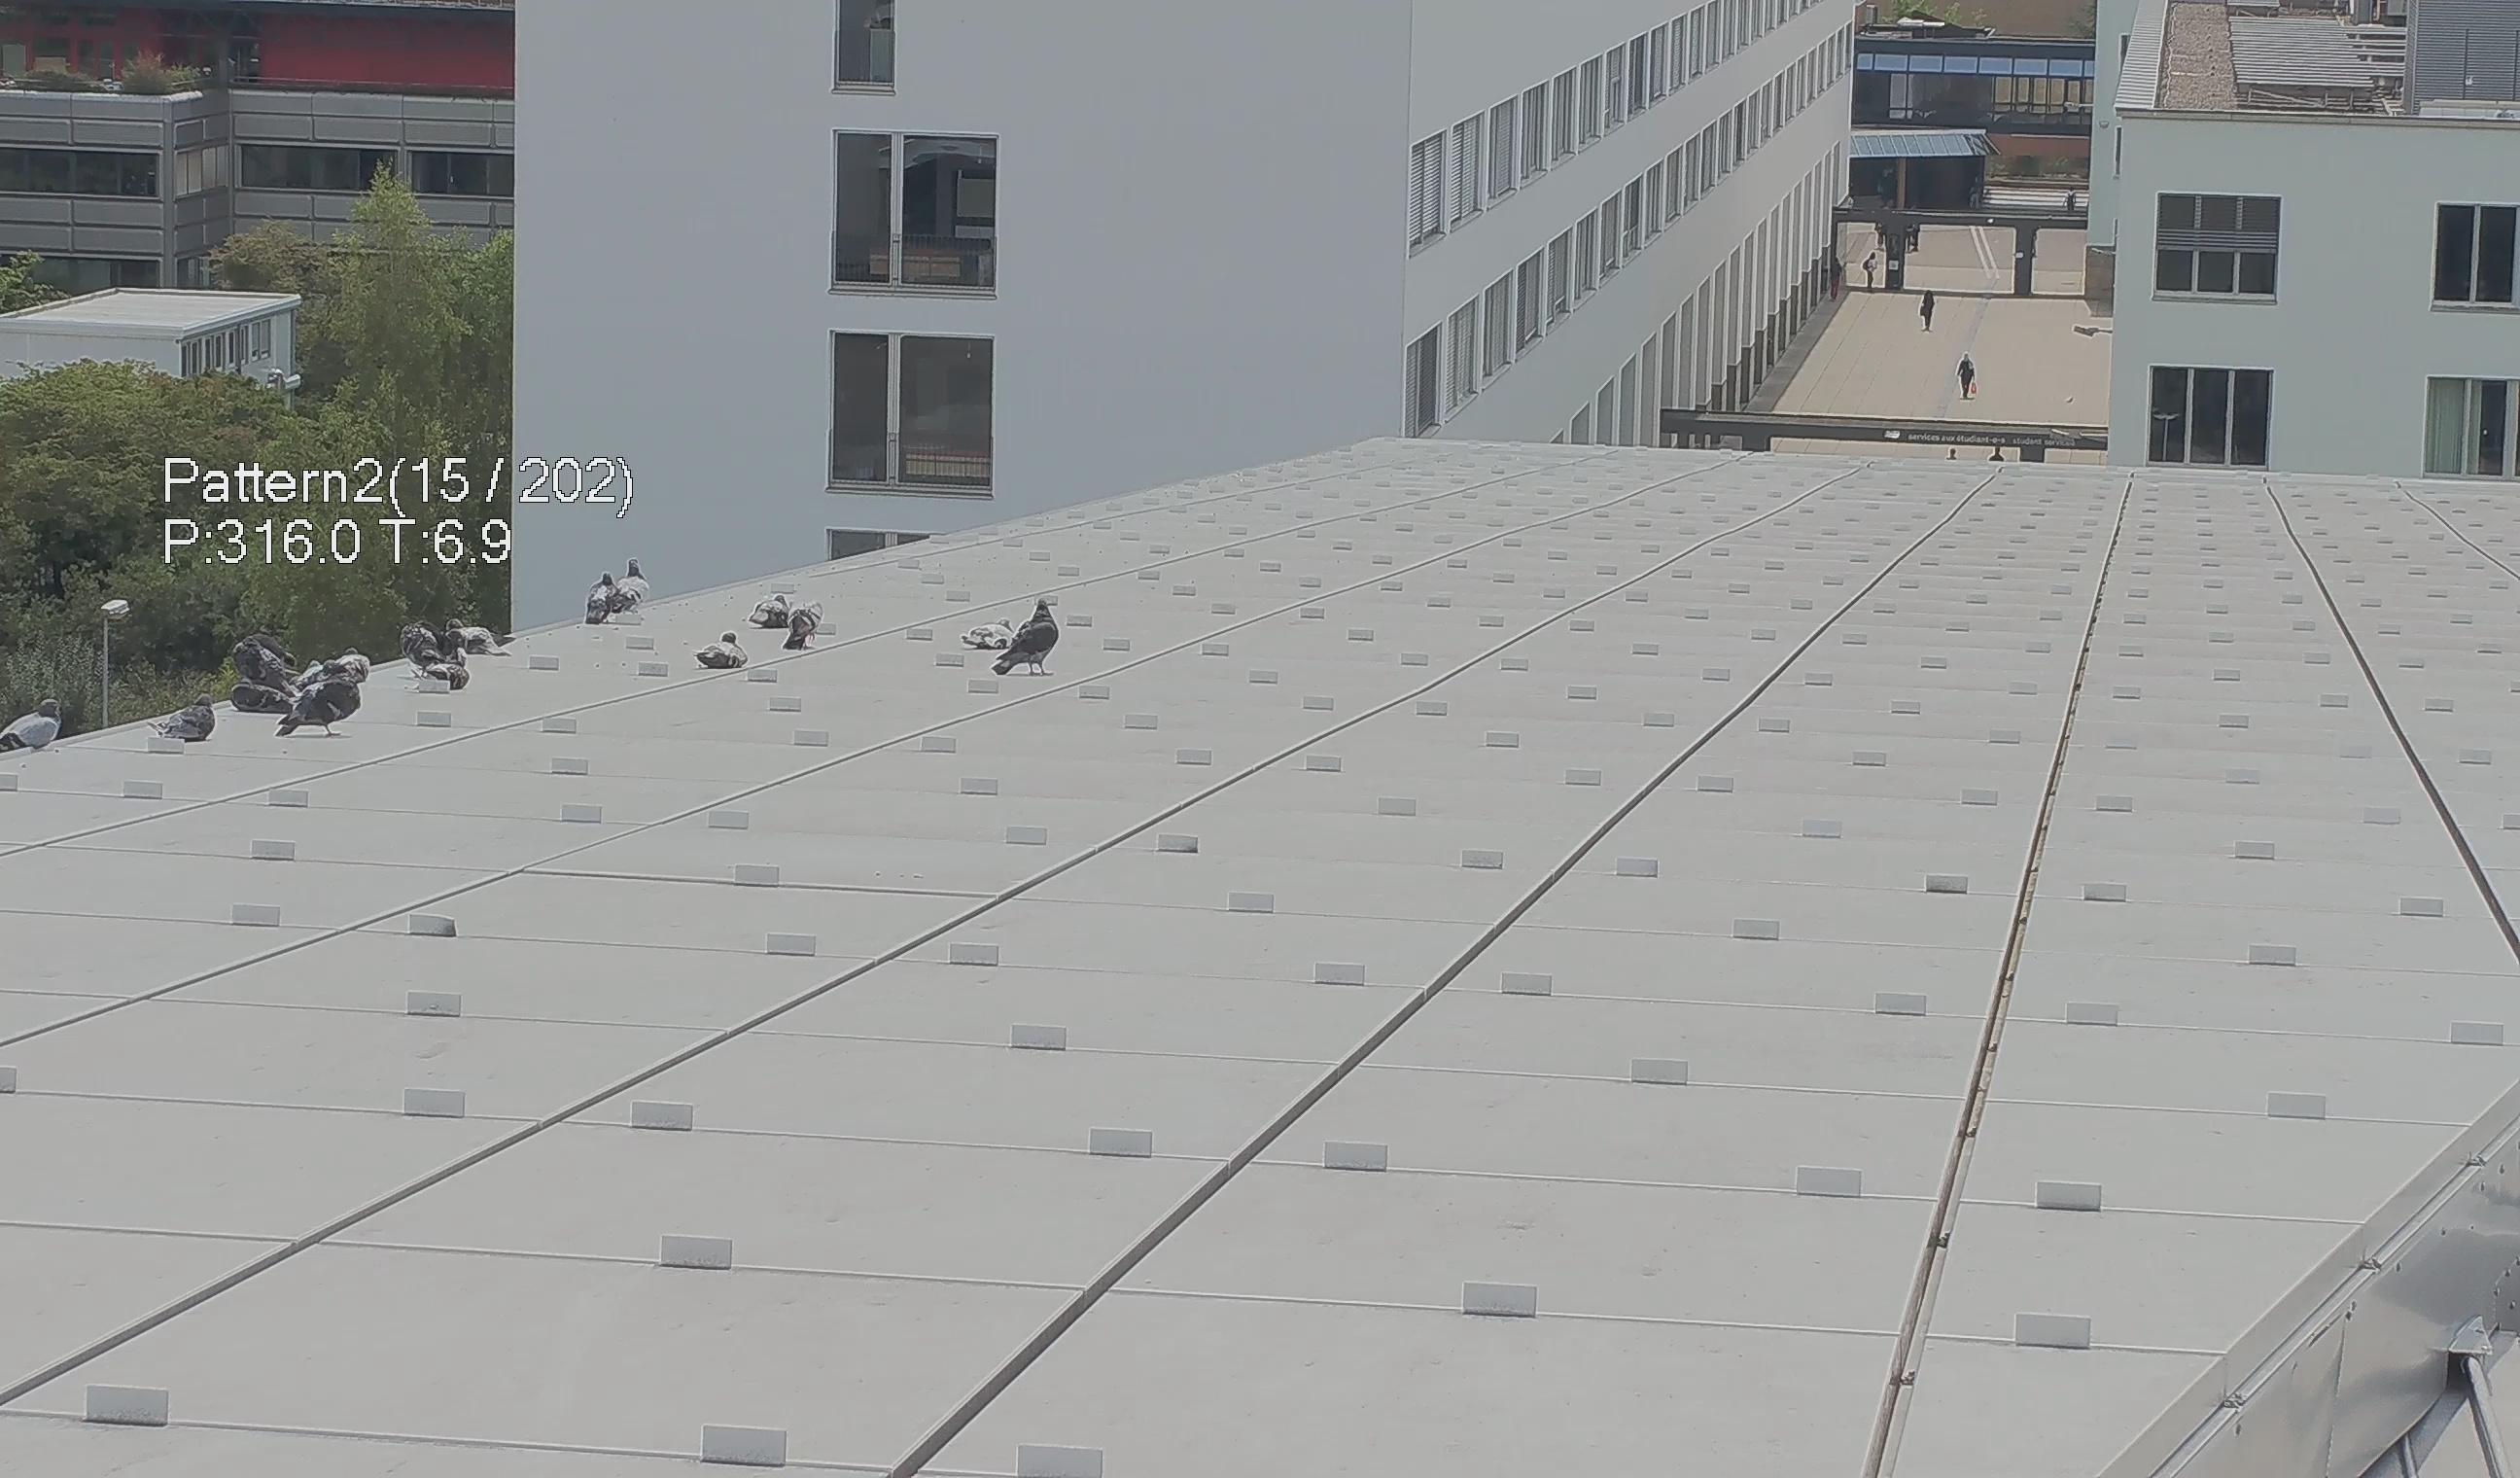Pigeon: (981, 598, 1066, 679), (290, 665, 368, 753), (2, 697, 63, 781), (241, 630, 318, 695), (215, 676, 297, 721), (160, 695, 215, 755), (953, 611, 1022, 655), (689, 626, 753, 670), (577, 568, 619, 632), (783, 602, 835, 649), (424, 648, 482, 684), (610, 551, 642, 614), (746, 596, 793, 626)
